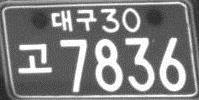0: (122, 7, 141, 33)
3: (124, 36, 155, 92), (99, 7, 120, 34)
6: (158, 36, 186, 92)
7: (57, 38, 88, 93)
8: (93, 38, 124, 92)
고: (16, 41, 53, 75)
대구_O: (49, 7, 98, 33)
